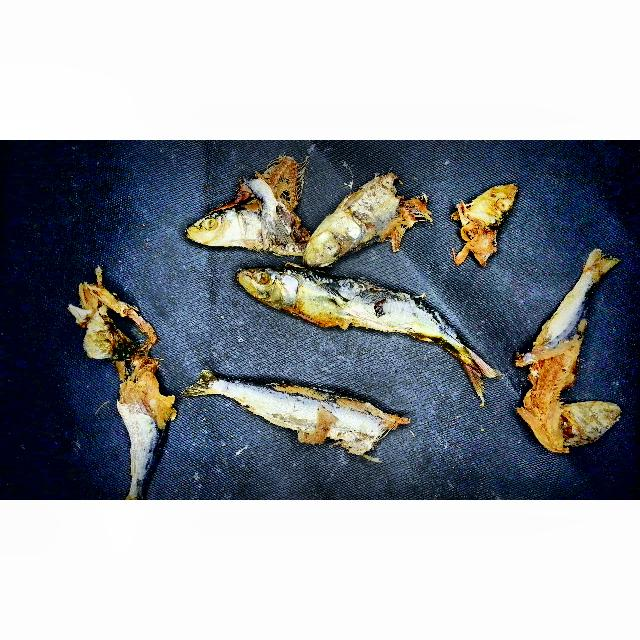Rejected_Body: (259, 381, 406, 461), (304, 266, 428, 354), (104, 365, 177, 484)
Rejected_Head: (184, 153, 308, 260), (304, 172, 434, 266), (66, 267, 161, 367), (519, 300, 595, 404), (447, 180, 521, 267), (526, 400, 625, 454), (234, 259, 307, 321)
Rejected_Tail: (444, 317, 501, 409), (180, 368, 248, 411), (569, 245, 622, 292)
